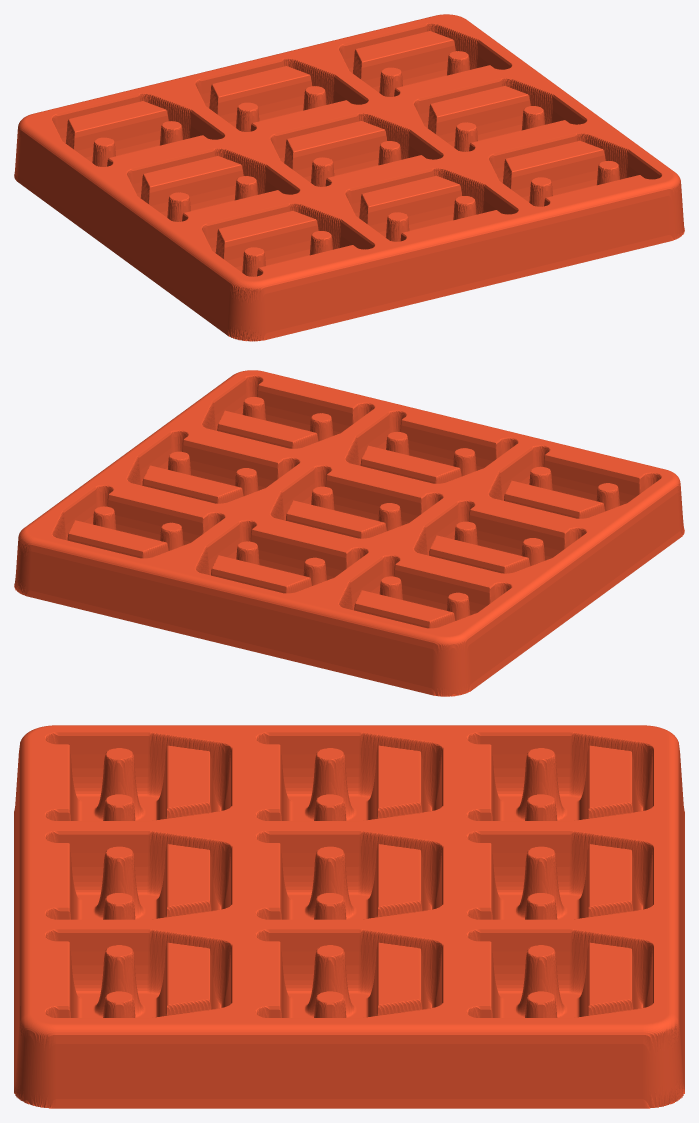
The model's file is mold.glb.
3 renders of one model, top to bottom at view 1: azimuth 30°, elevation 25°; view 2: azimuth 150°, elevation 25°; view 3: azimuth 270°, elevation 25°, orthographic. The views are drawn at different scales.
Visible parts, largest first — view 1: geometry_0; view 2: geometry_0; view 3: geometry_0.
Part boxes in pixels (bbox=[...]): geometry_0: bbox=[14, 14, 684, 341]; geometry_0: bbox=[14, 370, 684, 696]; geometry_0: bbox=[14, 725, 684, 1108].
Size of the model in its own units: 0.1595 by 0.0185 by 0.1451.
